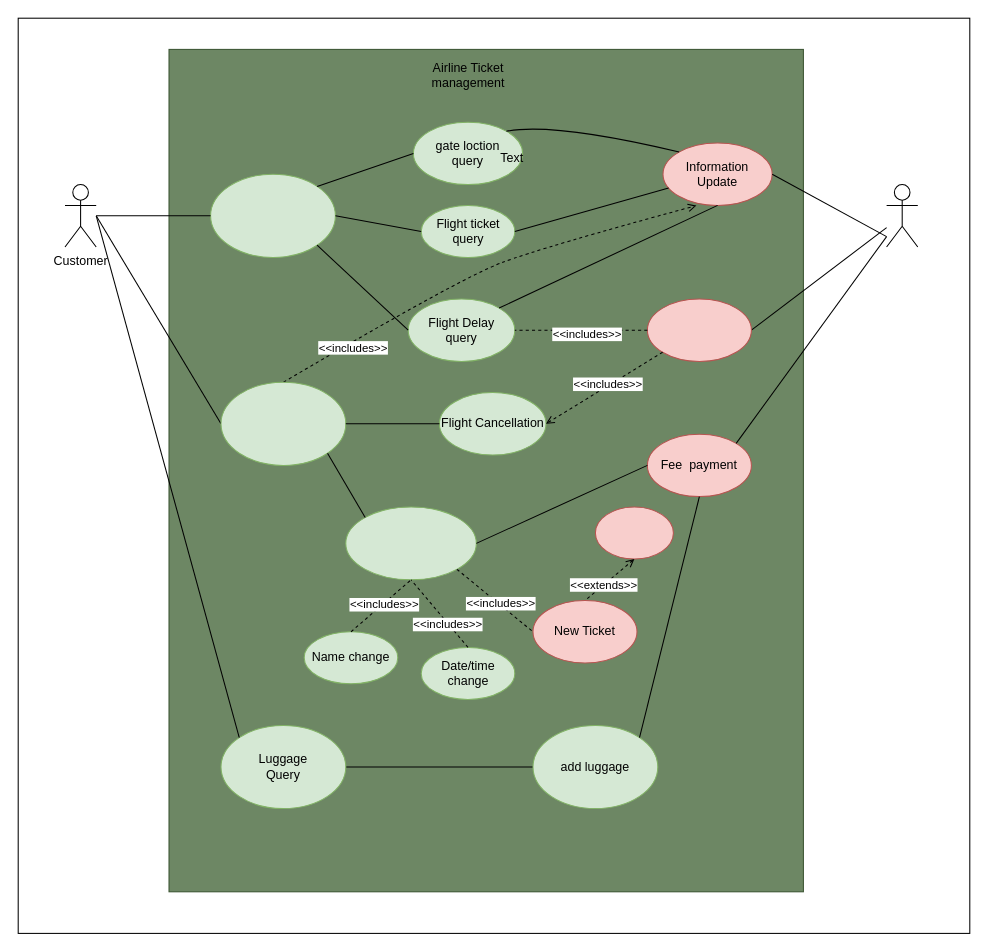
This 988x952 diagram has some shape labels left out. The shapes that lost their labels are listed below. From the top down, each one's centre as x and y in pixels, then its label:
point (272, 215): Query's
point (902, 215): Customer Support Specialist
point (698, 329): Refund
point (283, 423): Requests
point (410, 543): Flight Detail Update
point (633, 532): New Flight
